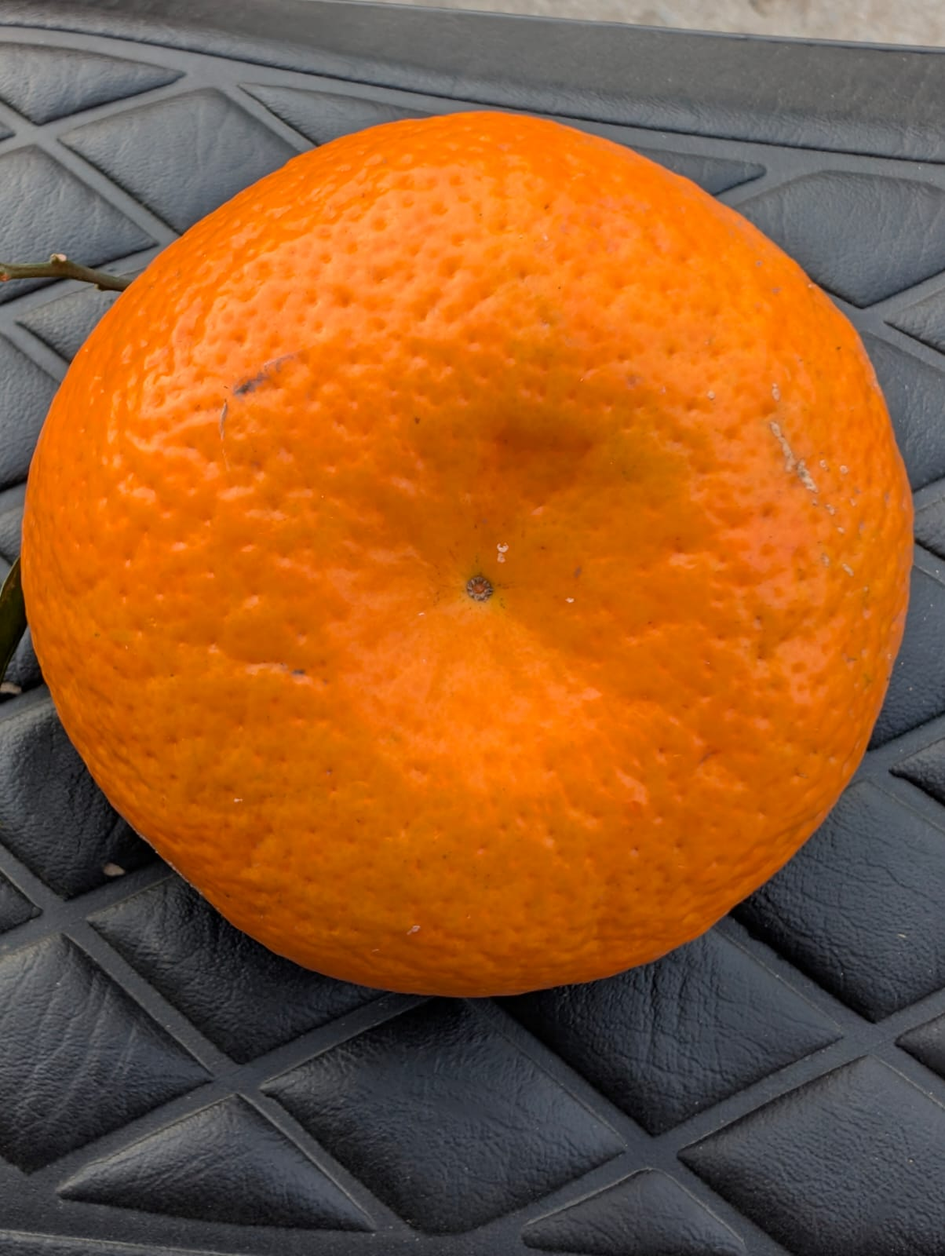orange: (6, 212, 758, 1035)
